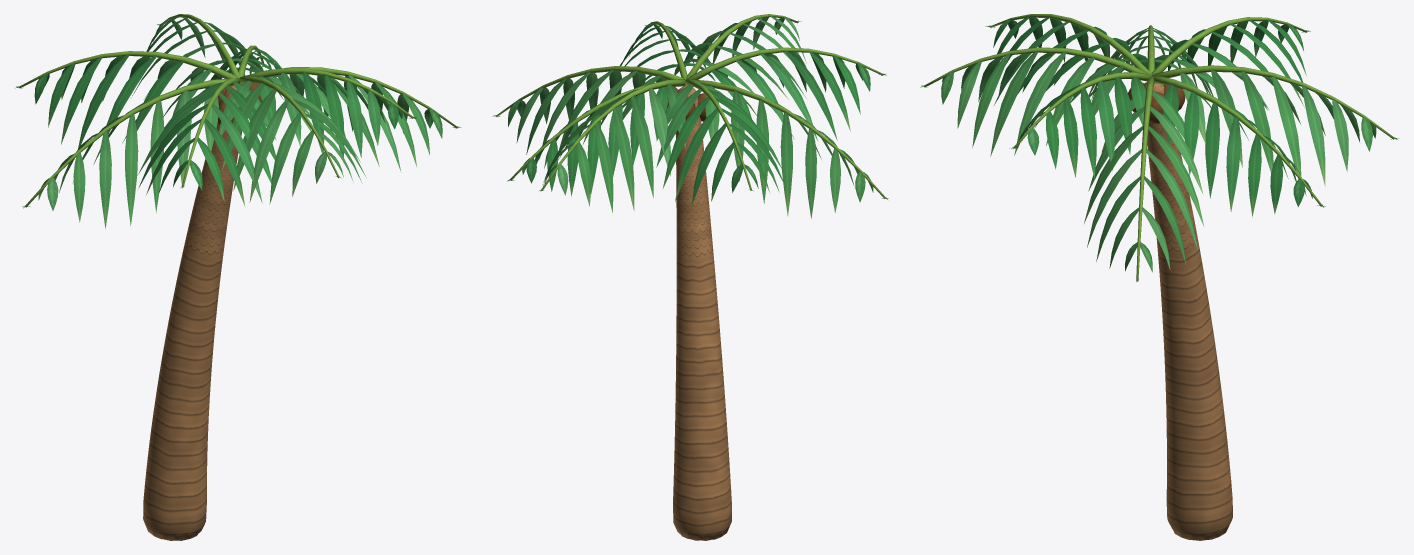
File: palm_b.glb
The picture shows the model from 3 angles, left to right: view 1: azimuth 30°, elevation 25°; view 2: azimuth 150°, elevation 25°; view 3: azimuth 270°, elevation 25°; orthographic projection. The views are drawn at different scales.
Parts seen in each view (by area): view 1: Crown_leaf, Trunk; view 2: Crown_leaf, Trunk; view 3: Crown_leaf, Trunk.
Boxes of the visible parts, x1,y1,x2,y2 form: Crown_leaf: [15, 14, 461, 228]; Trunk: [143, 85, 242, 540]; Crown_leaf: [492, 14, 888, 218]; Trunk: [673, 86, 731, 540]; Crown_leaf: [920, 14, 1399, 281]; Trunk: [1143, 82, 1232, 540].
Size of the model in its own units: 5.62 by 6.05 by 5.21.
1 material, 1 textured.
